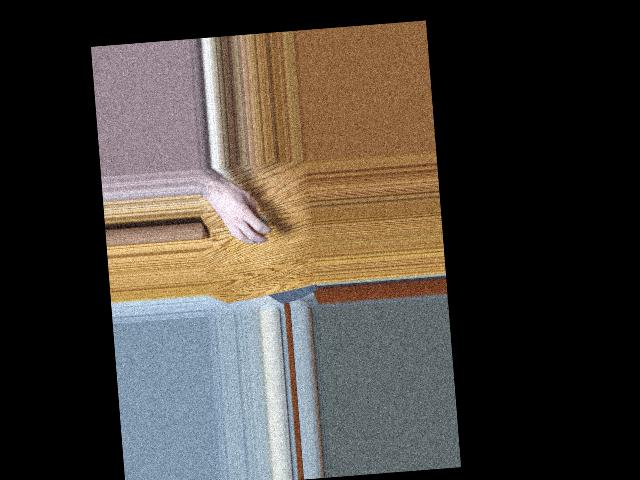onion: (243, 212, 270, 239)
